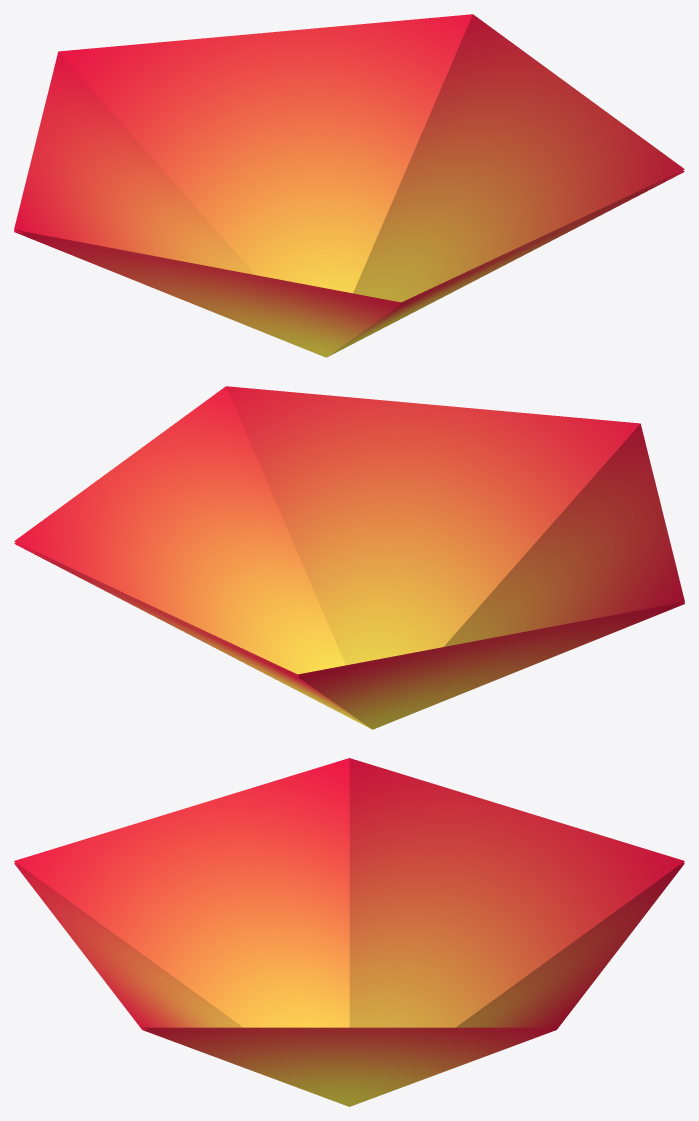
The model's file is pondFlower.fbx.
3 renders of one model, top to bottom at view 1: azimuth 30°, elevation 25°; view 2: azimuth 150°, elevation 25°; view 3: azimuth 270°, elevation 25°, orthographic. The views are drawn at different scales.
Parts seen in each view (by area): view 1: Icosphere.001, Icosphere; view 2: Icosphere.001, Icosphere; view 3: Icosphere.001, Icosphere.
Boxes of the visible parts, x1,y1,x2,y2 form: Icosphere.001: (14,14,684,304); Icosphere: (14,170,684,357); Icosphere.001: (14,386,684,676); Icosphere: (14,542,684,729); Icosphere.001: (14,758,684,1029); Icosphere: (14,863,684,1106).
Bounding box in the file's own units: 162 × 55.92 × 170.
2 materials, 2 textured.
